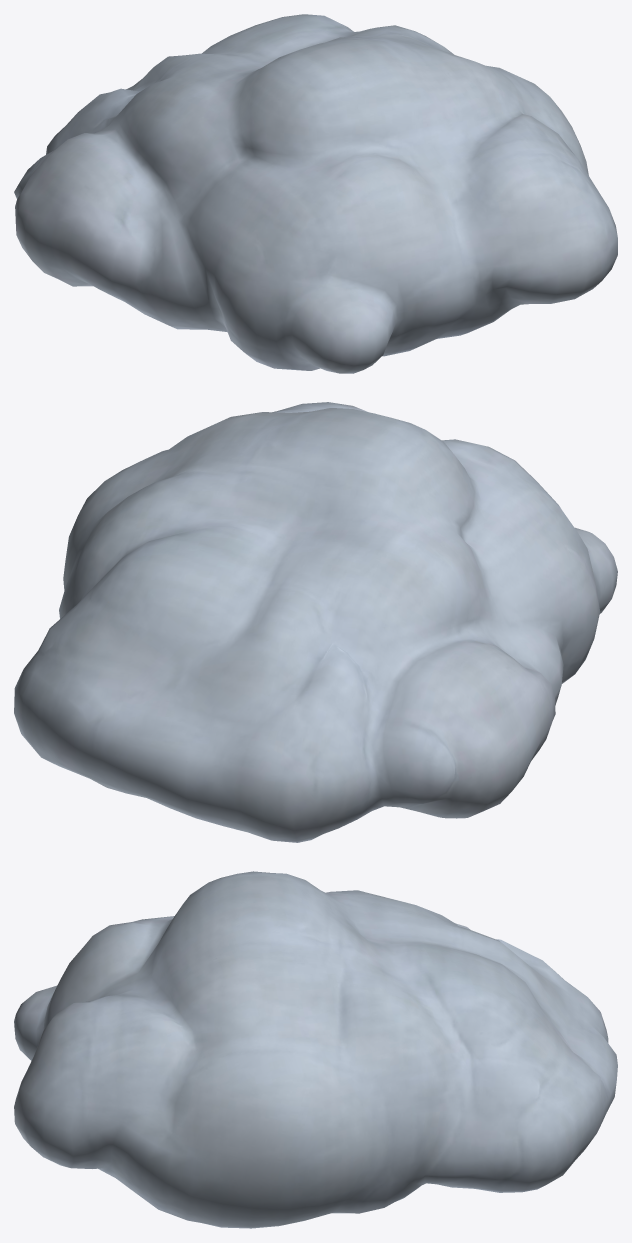
3 renders of one model, top to bottom at view 1: azimuth 30°, elevation 25°; view 2: azimuth 150°, elevation 25°; view 3: azimuth 270°, elevation 25°, orthographic. The views are drawn at different scales.
Parts seen in each view (by area): view 1: mesh; view 2: mesh; view 3: mesh.
Boxes of the visible parts, box(x1,y1,x2,y2) form: mesh: box(14, 14, 617, 373); mesh: box(14, 402, 617, 842); mesh: box(14, 871, 617, 1228).
Bounding box in the file's own units: 0.8954 × 0.4685 × 0.9955.
Materials: 1 (1 with a texture image).
